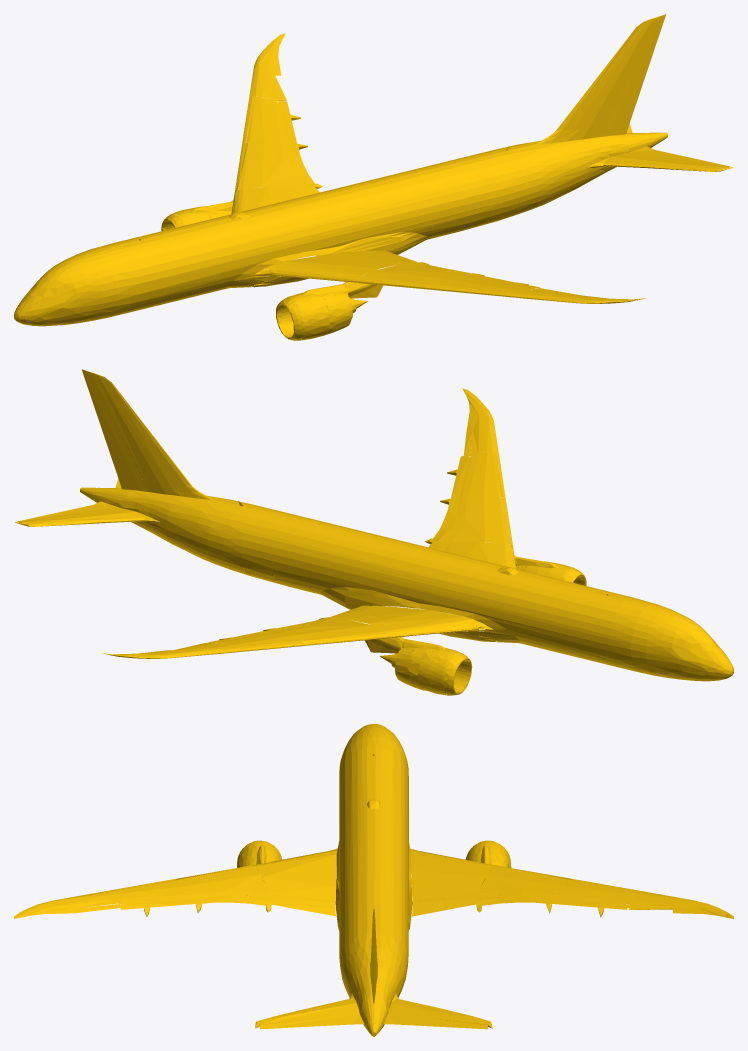
3 views of the same model, one above another, from view 1: azimuth 30°, elevation 25°; view 2: azimuth 150°, elevation 25°; view 3: azimuth 270°, elevation 25° (orthographic).
Size of the model in its own units: 62.68 by 16.28 by 59.51.
